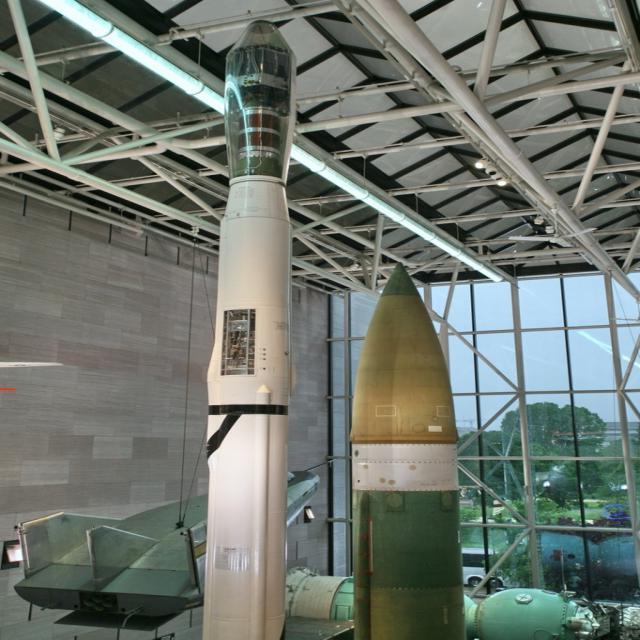missile: (205, 18, 307, 638), (347, 265, 471, 637)
